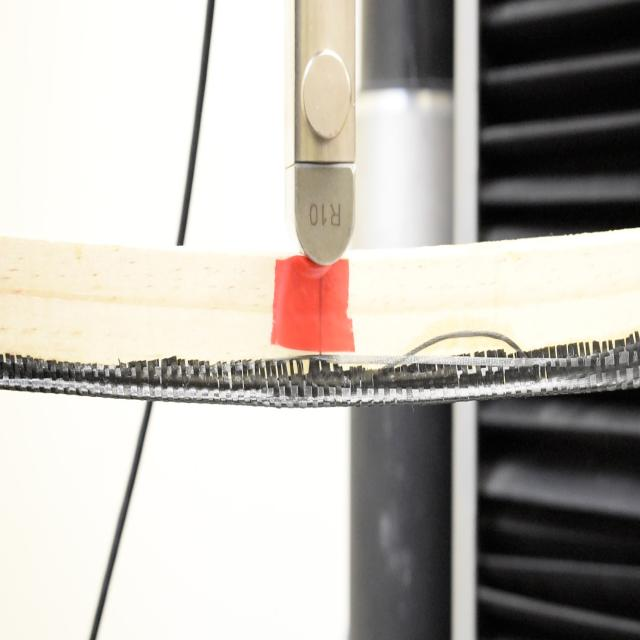wood: (0, 230, 640, 405)
